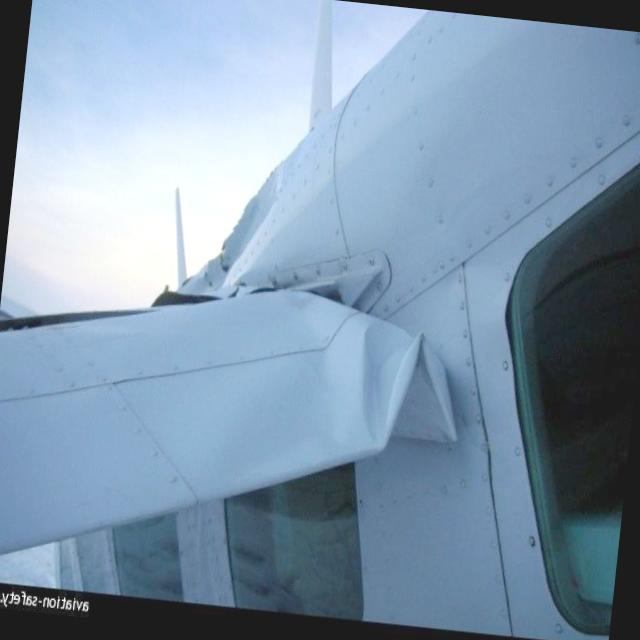dent: (345, 309, 470, 465)
